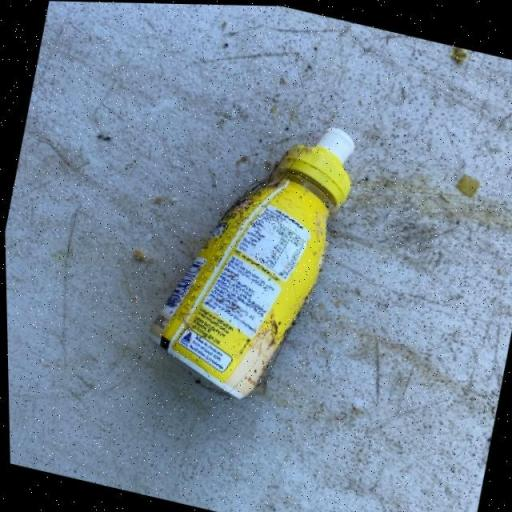plastic: (132, 90, 366, 416)
